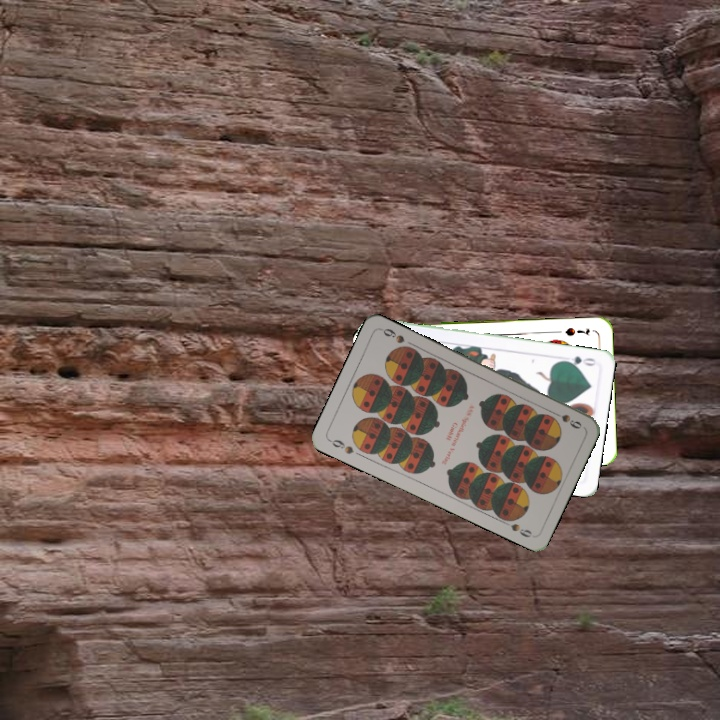GO: (558, 352, 599, 369)
S7: (561, 323, 592, 339)
S9: (547, 407, 584, 432), (325, 435, 356, 457)
